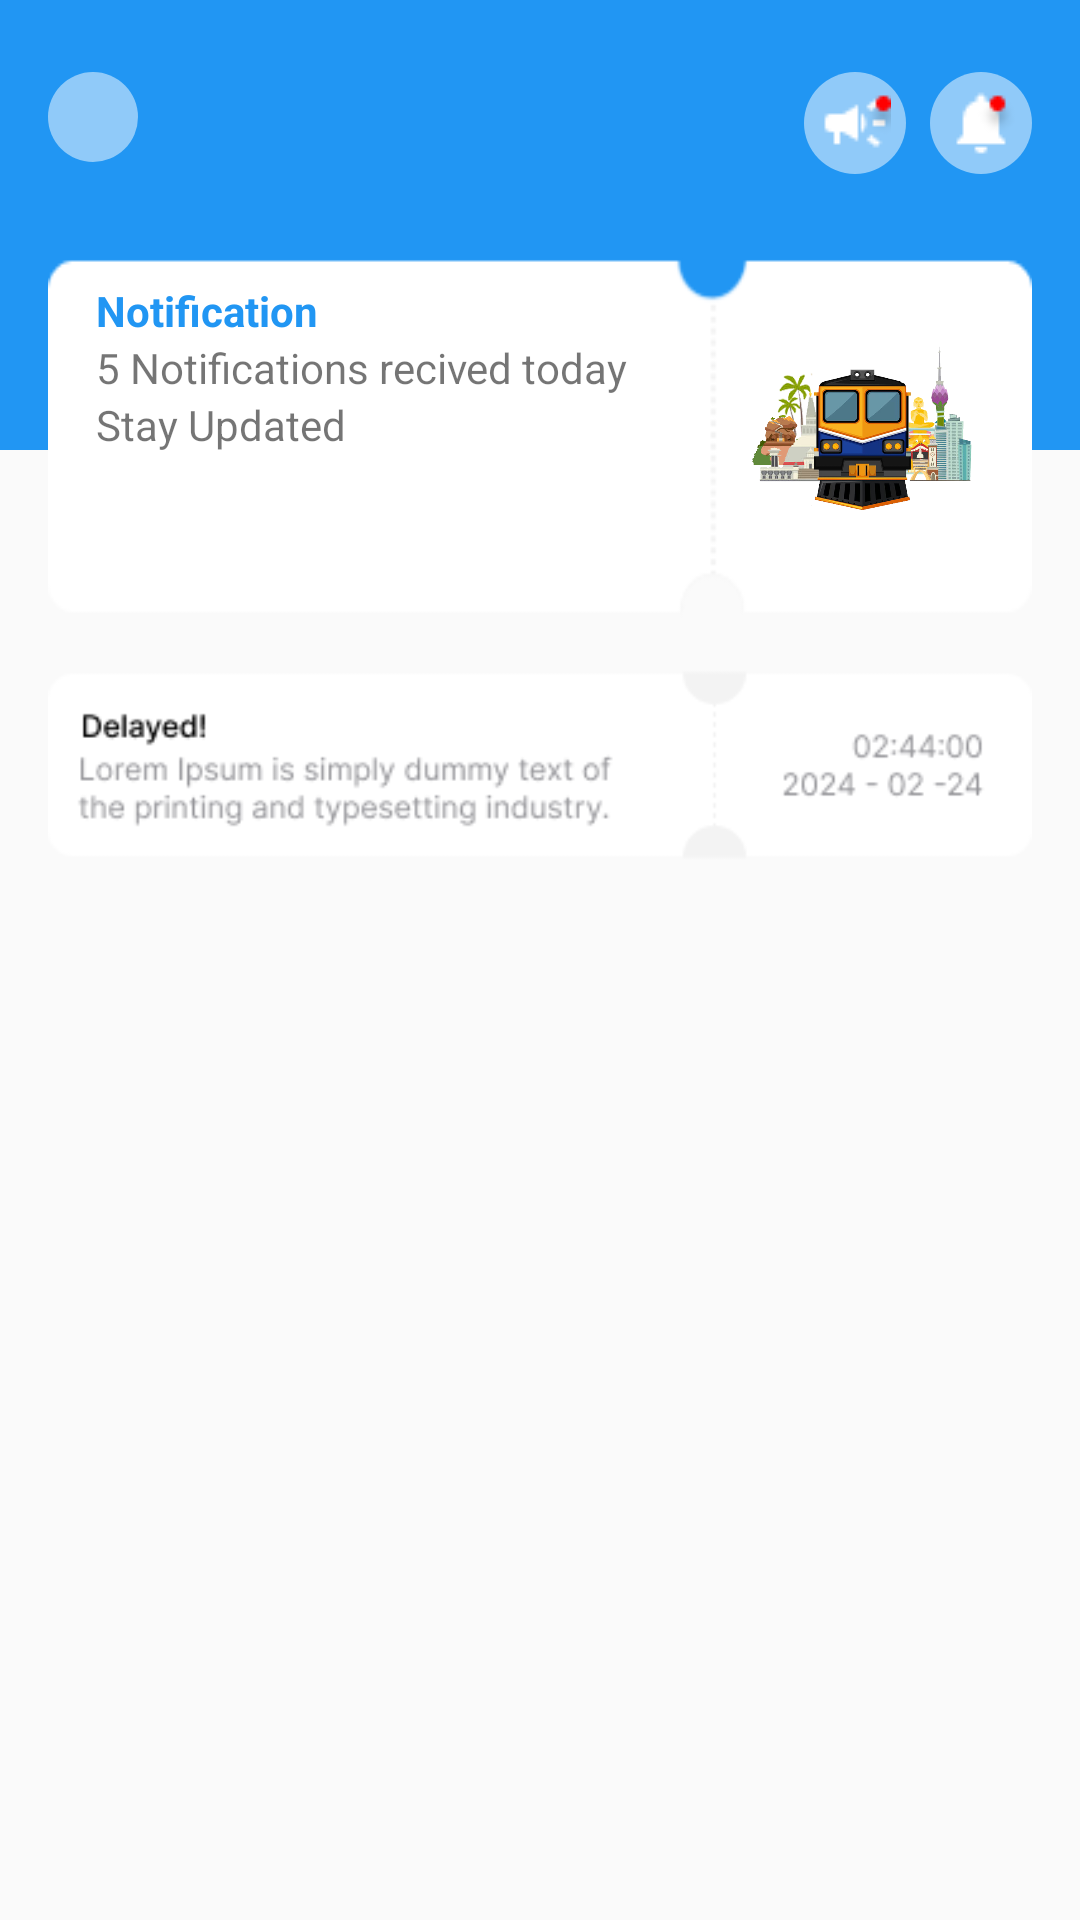

Named icons in this screenshot (1080 x 1920) and their centers, [x,y]:
notifications: [981,123]
speaker: [855,123]
